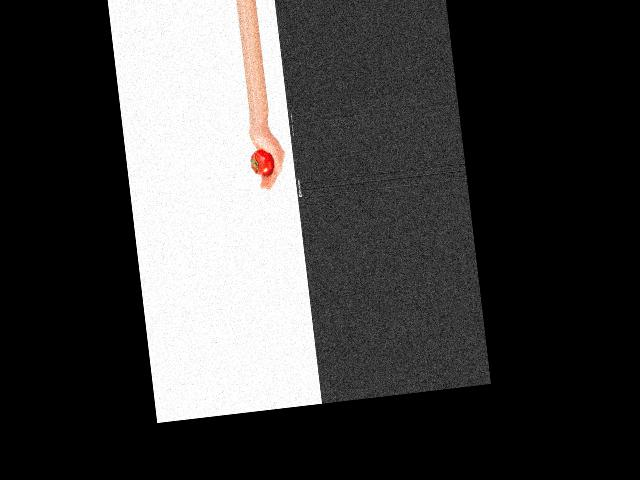tomato: (249, 147, 275, 175)
